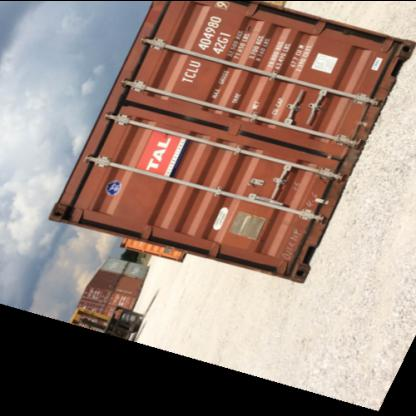Damage: (319, 141, 347, 188)
